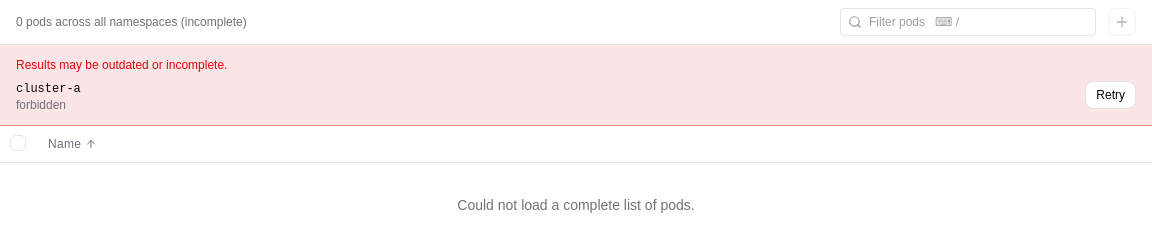
ResourceTable load failures › distinguishes an initial failure from an empty list and keeps retry errors visible
The image size is (1152, 230).
Expected: the text "No pods." is not shown
Click the button with aria-label "Retry loading pods from cluster-a".
click(1111, 95)  # box [1085, 81, 1136, 109]
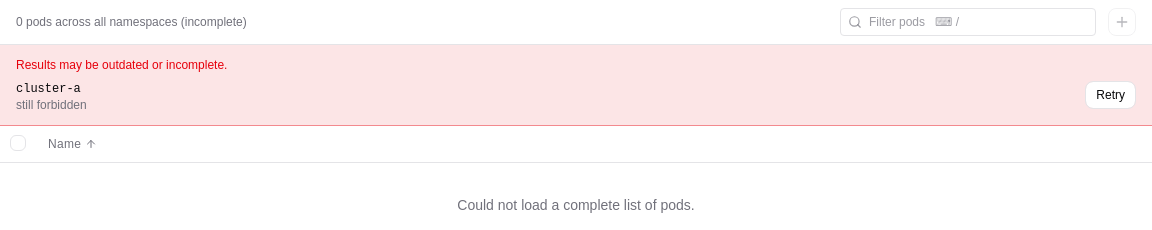
Result: the message "Results may be outdated or incomplete. cluster-a still forbidden Retry" is shown at [0, 45, 1151, 126]
Click the button with aria-label "Retry loading pods from cluster-a".
click(1111, 95)  # box [1085, 81, 1136, 109]
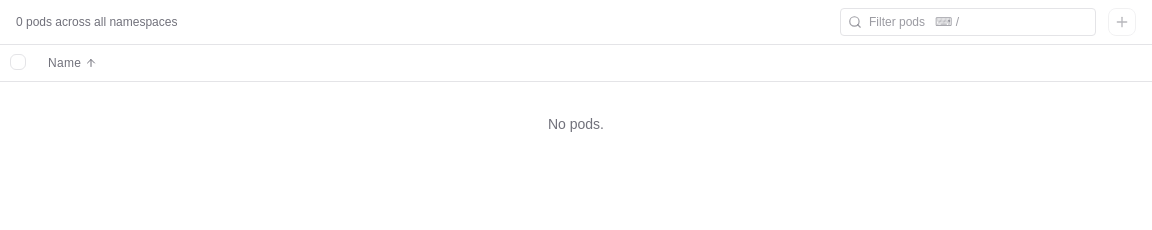
Result: the message "Results may be outdated or incomplete. cluster-a still forbidden Retry" is gone
Result: the text "No pods." is shown at [0, 82, 1151, 166]
